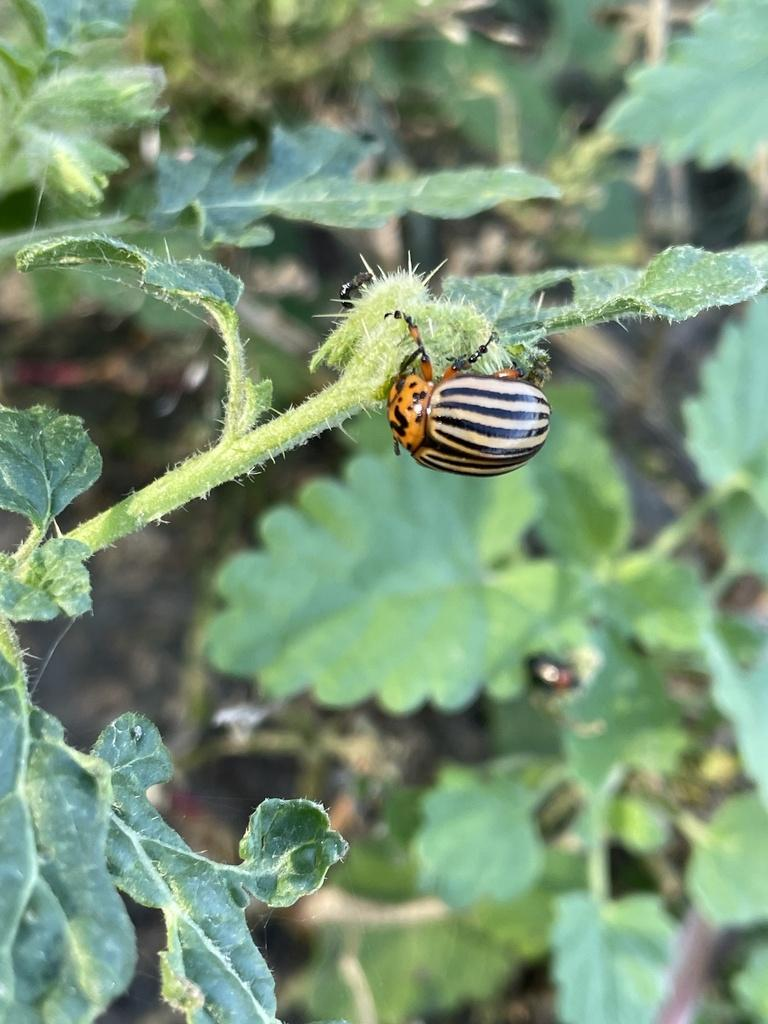potato_beetle: (343, 289, 599, 504)
